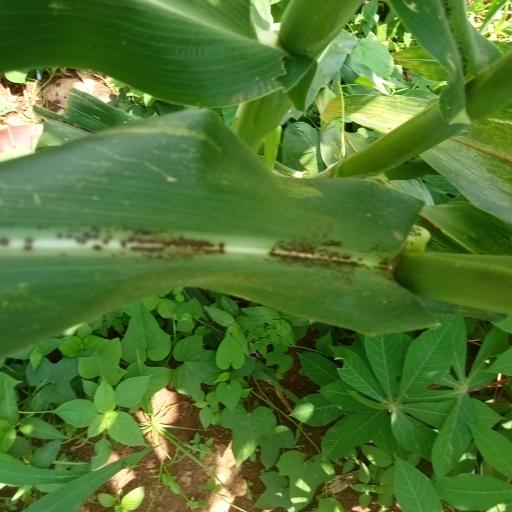Corn_Brown_Spots: (2, 107, 432, 361)
